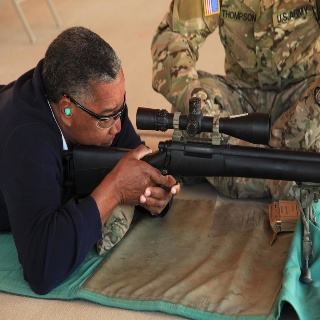rifle: (70, 97, 320, 198)
